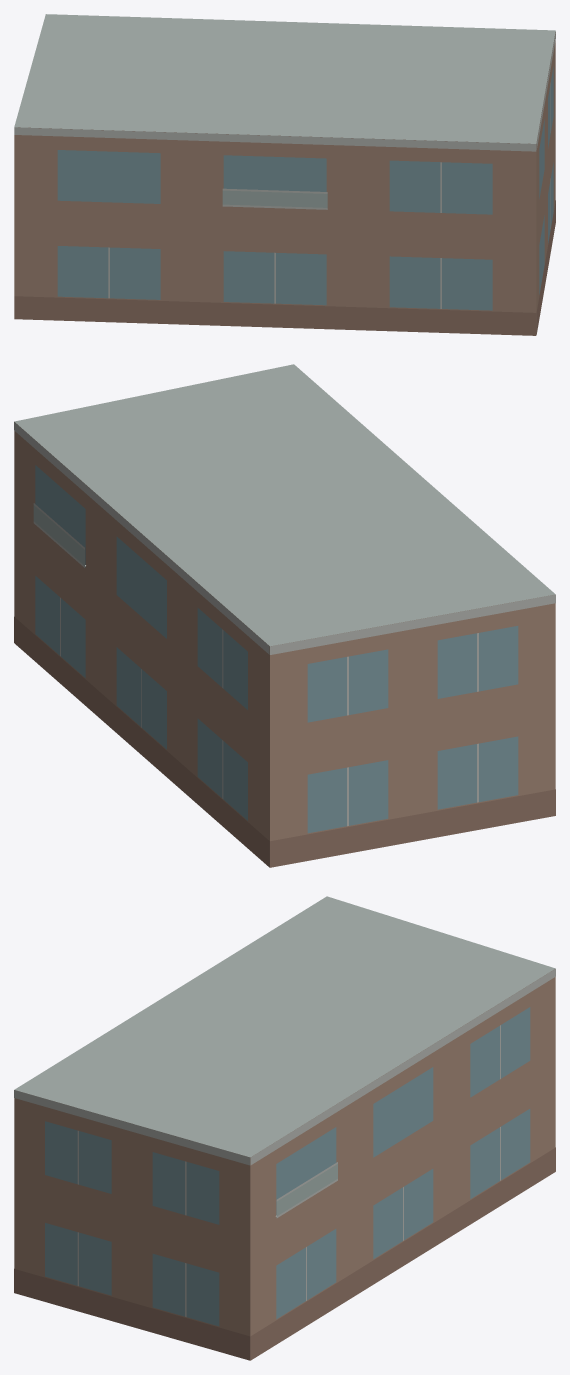
The model's file is survey-upis-32637875.glb.
3 renders of one model, top to bottom at view 1: azimuth 30°, elevation 25°; view 2: azimuth 150°, elevation 25°; view 3: azimuth 270°, elevation 25°, orthographic. The views are drawn at different scales.
Visible parts, largest first — view 1: survey-upis-32637875.tmp; view 2: survey-upis-32637875.tmp; view 3: survey-upis-32637875.tmp.
Part boxes in pixels (x1,y1,x2,y2): survey-upis-32637875.tmp: (14, 14, 555, 335); survey-upis-32637875.tmp: (14, 364, 555, 867); survey-upis-32637875.tmp: (14, 896, 555, 1360).
Size of the model in its own units: 16.83 by 6.1 by 14.75.
